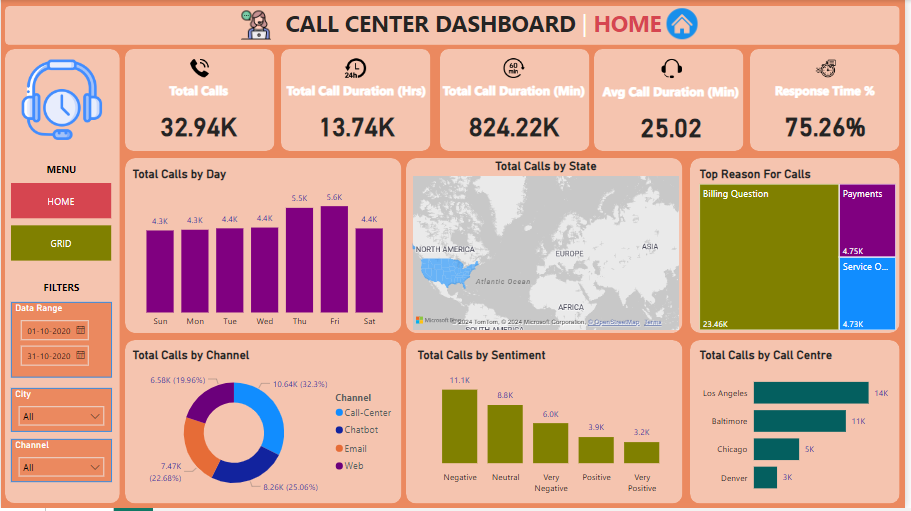

The dashboard page shown, as its layout file describes it:
{"tool":"powerbi","page":{"name":"HOME","canvas":[1280,720],"ordinal":0},"visuals":[{"type":"shape","box":[5.5,70,162.7,643.6],"z":0},{"type":"shape","box":[5.5,8.2,1268.2,55.5],"z":1000},{"type":"shape","box":[175.5,70,211.8,144.5],"z":2000},{"type":"shape","box":[397.3,70,211.8,144.5],"z":3000},{"type":"shape","box":[621.8,70,211.8,144.5],"z":4000},{"type":"shape","box":[840.9,70,211.8,144.5],"z":5000},{"type":"shape","box":[1061.8,70,211.8,144.5],"z":6000},{"type":"shape","box":[175.5,224.5,391.8,248.2],"z":7000},{"type":"shape","box":[175.5,481.8,391.8,231.8],"z":8000},{"type":"shape","box":[574.5,224.5,391.8,248.2],"z":9000},{"type":"shape","box":[574.5,481.8,391.8,231.8],"z":10000},{"type":"shape","box":[976.4,224.5,297.3,248.2],"z":11000},{"type":"shape","box":[976.4,481.8,297.3,231.8],"z":12000},{"type":"textbox","box":[397.6,6,578.8,59.5],"z":13000},{"type":"image","box":[336.3,10.5,50.9,50.9],"z":14000},{"type":"image","box":[938.6,6.1,53.6,55.3],"z":15000},{"type":"card","title":"Total Calls","fields":{"Values":["Call Center_Call Center.Total Calls"]},"box":[174.7,115.9,211.6,99.2],"z":16000},{"type":"card","title":"Total Call Duration (Hrs)","fields":{"Values":["Call Center_Call Center.Total Call Duration (Hrs)"]},"box":[398.1,116.1,211,98.6],"z":17000},{"type":"card","title":"Total Call Duration (Min)","fields":{"Values":["Call Center_Call Center.Total Call Duration (min)"]},"box":[615.6,116.1,223.9,98.6],"z":18000},{"type":"card","title":"Avg Call Duration (Min)","fields":{"Values":["Call Center_Call Center.AVG Call Duration (min)"]},"box":[837.7,117,223.9,98.6],"z":19000},{"type":"card","title":"Response Time %","fields":{"Values":["Call Center_Call Center.Response Time %"]},"box":[1056.3,116.8,223.9,98.3],"z":20000},{"type":"image","box":[259,76.4,43,40.4],"z":21000},{"type":"image","box":[481.2,76.4,44.8,40.4],"z":22000},{"type":"image","box":[707.7,76.4,39.5,40.4],"z":23000},{"type":"image","box":[930.7,76.4,38.6,40.4],"z":24000},{"type":"image","box":[1149.4,76.4,38.6,40.4],"z":25000},{"type":"columnChart","fields":{"Y":["Call Center_Call Center.Total Calls"],"Category":["Date Table.Day"]},"box":[181.8,237.1,385.5,236.2],"z":26000},{"type":"barChart","title":"Total Calls by Call Centre","fields":{"Category":["Call Center_Call Center.Call-Centres City"],"Y":["Call Center_Call Center.Total Calls"]},"box":[985.2,492.6,288,221.3],"z":27000},{"type":"columnChart","title":"Total Calls by Sentiment","fields":{"Category":["Call Center_Call Center.Sentiment"],"Y":["Call Center_Call Center.Total Calls"]},"box":[585.7,492.6,380.2,214.2],"z":28000},{"type":"donutChart","fields":{"Category":["Call Center_Call Center.Channel"],"Y":["Call Center_Call Center.Total Calls"]},"box":[181.8,492.6,385.5,221.3],"z":29000},{"type":"treemap","title":"Top Reason For Calls","fields":{"Group":["Call Center_Call Center.Reason"],"Values":["Call Center_Call Center.Total Calls"]},"box":[985.2,237.1,288,236.2],"z":30000},{"type":"filledMap","fields":{"Category":["Call Center_Call Center.State"],"Y":["Call Center_Call Center.Total Calls"]},"box":[577.8,224.8,388.1,248.5],"z":31000},{"type":"slicer","title":"Data Range","fields":{"Values":["Date Table.Date"]},"box":[14.6,428,143,107],"z":32000},{"type":"slicer","title":"City","fields":{"Values":["Call Center_Call Center.City"]},"box":[14.6,549.5,143,62.2],"z":33000},{"type":"slicer","title":"Channel","fields":{"Values":["Call Center_Call Center.Channel"]},"box":[14.6,621.5,143,61.3],"z":34000},{"type":"pageNavigator","box":[14.6,258.7,143,110.9],"z":35000},{"type":"textbox","box":[14.6,224.7,143,49.6],"z":36000},{"type":"textbox","box":[14.6,392,143,49.6],"z":37000},{"type":"image","box":[21.4,79.8,130.3,124.5],"z":38000}]}

Visuals, with their boxes in screenshot pixels (x1, y1, x2, y2), scaled from the page's 1280x720 canvas onto the 911x511 screenshot:
shape: [4, 50, 120, 506]
shape: [4, 6, 907, 45]
shape: [125, 50, 276, 152]
shape: [283, 50, 434, 152]
shape: [443, 50, 593, 152]
shape: [598, 50, 749, 152]
shape: [756, 50, 906, 152]
shape: [125, 159, 404, 335]
shape: [125, 342, 404, 506]
shape: [409, 159, 688, 335]
shape: [409, 342, 688, 506]
shape: [695, 159, 907, 335]
shape: [695, 342, 907, 506]
textbox: [283, 4, 695, 46]
image: [239, 7, 276, 44]
image: [668, 4, 706, 44]
"Total Calls" card: [124, 82, 275, 153]
"Total Call Duration (Hrs)" card: [283, 82, 434, 152]
"Total Call Duration (Min)" card: [438, 82, 597, 152]
"Avg Call Duration (Min)" card: [596, 83, 756, 153]
"Response Time %" card: [752, 83, 910, 153]
image: [184, 54, 215, 83]
image: [342, 54, 374, 83]
image: [504, 54, 532, 83]
image: [662, 54, 690, 83]
image: [818, 54, 846, 83]
columnChart - Call Center_Call Center.Total Calls x Date Table.Day: [129, 168, 404, 336]
"Total Calls by Call Centre" barChart: [701, 350, 906, 507]
"Total Calls by Sentiment" columnChart: [417, 350, 687, 502]
donutChart - Call Center_Call Center.Channel x Call Center_Call Center.Total Calls: [129, 350, 404, 507]
"Top Reason For Calls" treemap: [701, 168, 906, 336]
filledMap - Call Center_Call Center.State x Call Center_Call Center.Total Calls: [411, 160, 687, 336]
"Data Range" slicer: [10, 304, 112, 380]
"City" slicer: [10, 390, 112, 434]
"Channel" slicer: [10, 441, 112, 485]
pageNavigator: [10, 184, 112, 262]
textbox: [10, 159, 112, 195]
textbox: [10, 278, 112, 313]
image: [15, 57, 108, 145]
